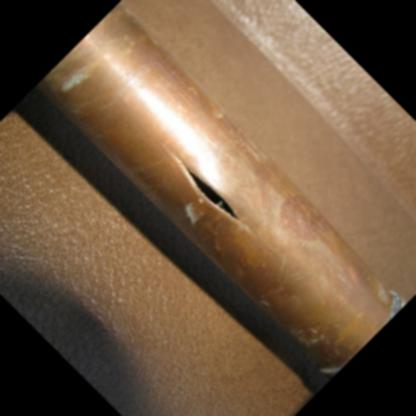burst: (159, 138, 248, 244)
